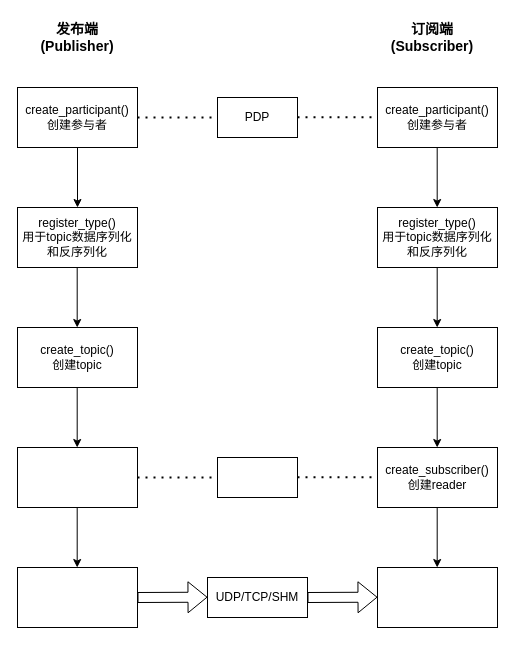
This 515x645 diagram has some shape labels left out. Each missing label, with the centre of its shape:
create_datawriter() 创建writer: the point at 77,477
EDP: the point at 257,477
take_next_sample() 读取topic数据: the point at 437,597
write() 发送topic数据: the point at 77,597
